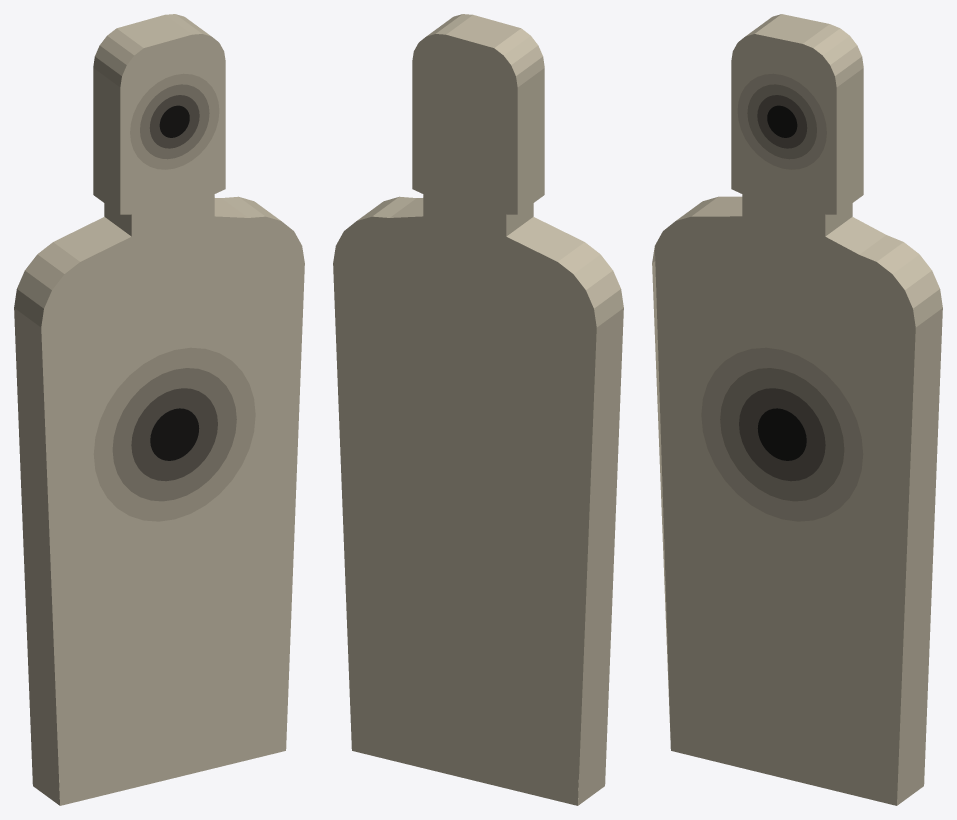
File: SilhouetteTarget.obj
The picture shows the model from 3 angles, left to right: view 1: azimuth 30°, elevation 25°; view 2: azimuth 150°, elevation 25°; view 3: azimuth 330°, elevation 25°; orthographic projection.
Parts seen in each view (by area): view 1: Target_Board, Zone_Chest_7, Zone_Chest_8, Zone_Chest_9, Zone_Head_7, Zone_Head_8, Zone_Chest_10, Zone_Head_9, Zone_Head_10; view 2: Target_Board; view 3: Target_Board, Zone_Chest_7, Zone_Chest_8, Zone_Chest_9, Zone_Head_7, Zone_Head_8, Zone_Chest_10, Zone_Head_9, Zone_Head_10.
Part boxes in pixels (bbox=[...]): Target_Board: bbox=[14, 14, 304, 805]; Zone_Chest_7: bbox=[93, 347, 255, 521]; Zone_Chest_8: bbox=[112, 368, 236, 501]; Zone_Chest_9: bbox=[131, 388, 217, 481]; Zone_Head_7: bbox=[130, 73, 219, 169]; Zone_Head_8: bbox=[140, 84, 209, 159]; Zone_Chest_10: bbox=[150, 408, 199, 460]; Zone_Head_9: bbox=[149, 95, 199, 148]; Zone_Head_10: bbox=[159, 105, 189, 137]; Target_Board: bbox=[333, 14, 623, 805]; Target_Board: bbox=[652, 14, 942, 805]; Zone_Chest_7: bbox=[701, 347, 863, 521]; Zone_Chest_8: bbox=[720, 368, 844, 501]; Zone_Chest_9: bbox=[739, 388, 825, 481]; Zone_Head_7: bbox=[737, 73, 826, 169]; Zone_Head_8: bbox=[747, 84, 816, 159]; Zone_Chest_10: bbox=[757, 408, 806, 460]; Zone_Head_9: bbox=[757, 95, 807, 148]; Zone_Head_10: bbox=[767, 105, 797, 137].
Size of the model in its own units: 0.56 by 1.5 by 0.106.
